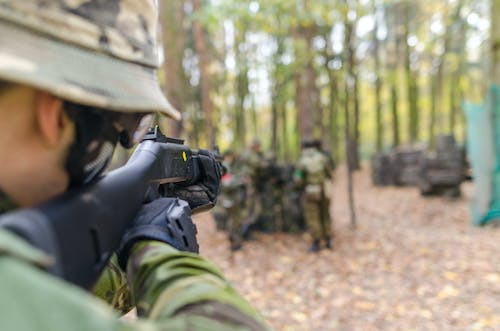gun: (0, 122, 229, 294)
